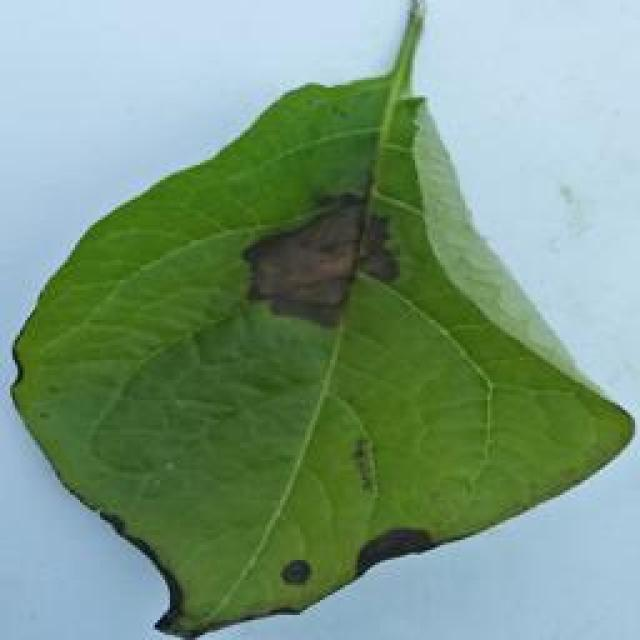Potato_Late_Blight: (18, 12, 623, 634)
